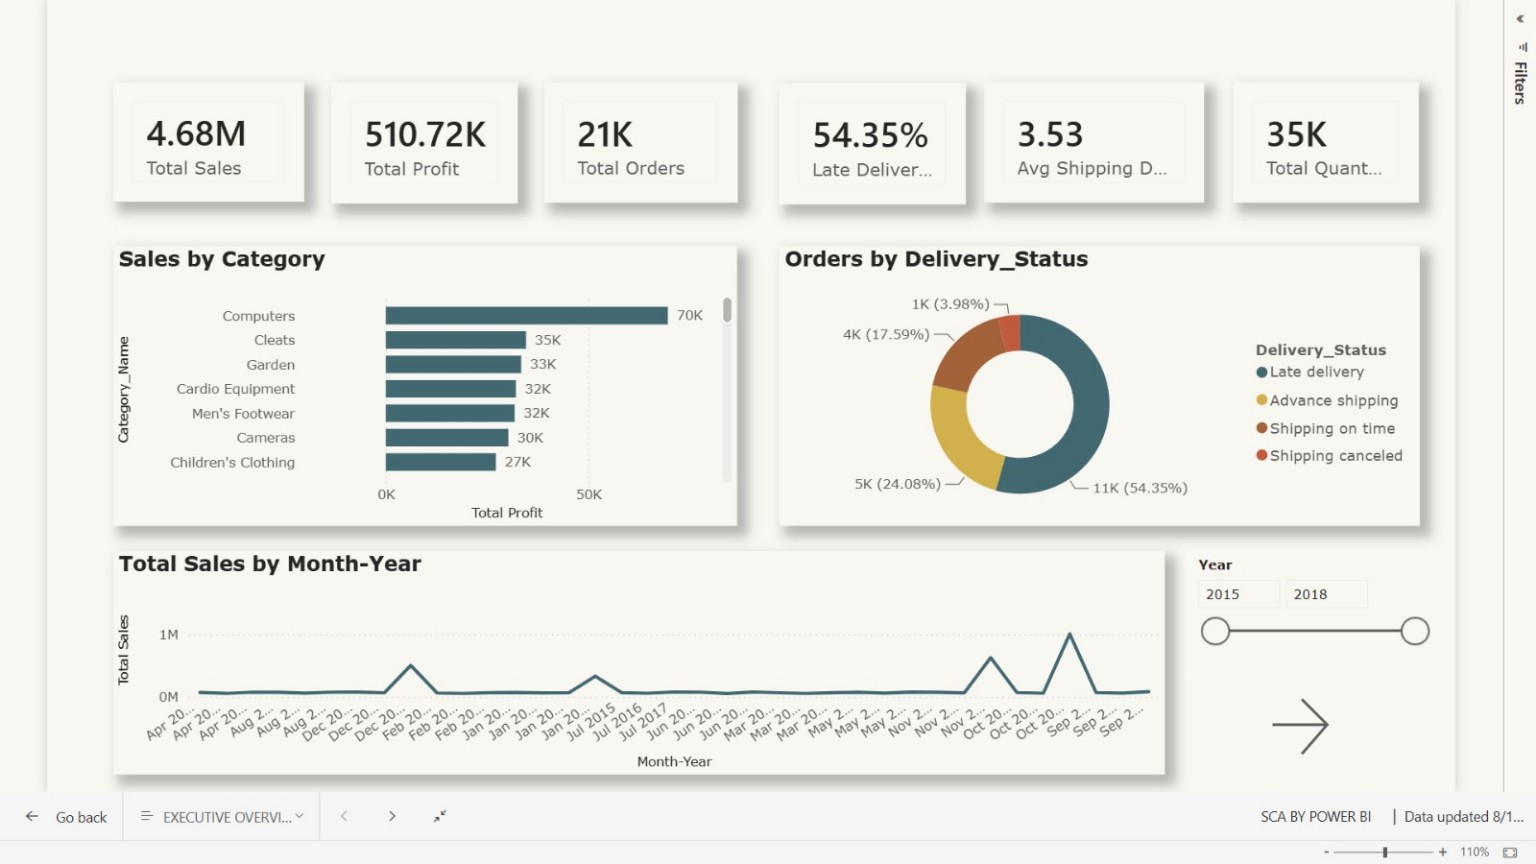

The dashboard page shown, as its layout file describes it:
{"tool":"powerbi","page":{"name":"EXECUTIVE OVERVIEW","canvas":[1280,720],"ordinal":0},"visuals":[{"type":"cardVisual","title":"Total Sales","fields":{"Data":["Fact_Order.Total Sales"]},"box":[59.9,74.6,173.6,108.8],"z":0},{"type":"cardVisual","fields":{"Data":["Fact_Order.Total Profit"]},"box":[258,74.6,170,110.1],"z":1},{"type":"cardVisual","fields":{"Data":["Fact_Order.Total Orders"]},"box":[451.5,74.1,175.6,109.8],"z":2},{"type":"cardVisual","fields":{"Data":["Fact_Order.Total Quantity"]},"box":[1078.6,74.1,168.8,109.8],"z":3},{"type":"cardVisual","fields":{"Data":["Fact_Order.Late Delivery %"]},"box":[665.2,75.8,170,110.1],"z":4},{"type":"cardVisual","fields":{"Data":["Fact_Order.Avg Shipping Days"]},"box":[852.1,74.1,200.3,109.8],"z":5},{"type":"clusteredBarChart","title":"Sales by Category","fields":{"Category":["Dim_Product.Category_Name"],"Y":["Fact_Order.Total Profit"]},"box":[59.9,223.8,567.4,254.3],"z":7},{"type":"donutChart","title":"Orders by Delivery_Status","fields":{"Category":["Fact_Order.Delivery_Status"],"Y":["Fact_Order.Total Orders"]},"box":[665.2,223.8,582.1,254.3],"z":8},{"type":"lineChart","fields":{"Category":["Dim_Date.Month-Year"],"Y":["Fact_Order.Total Sales"]},"box":[59.9,501.4,956.3,203],"z":9},{"type":"slicer","fields":{"Values":["Dim_Date.Year"]},"box":[1033.3,501.4,231.1,117.4],"z":10},{"type":"actionButton","box":[1106.7,628.5,85.6,64.8],"z":11}]}

Visuals, with their boxes on the page's 1280x720 design canvas (x1, y1, x2, y2). These are canvas units, not pixel positions in the 1536x864 screenshot, which may show the page scaled, cropped or inside an application window:
"Total Sales" cardVisual: 60,75,234,183
cardVisual - Fact_Order.Total Profit: 258,75,428,185
cardVisual - Fact_Order.Total Orders: 452,74,627,184
cardVisual - Fact_Order.Total Quantity: 1079,74,1247,184
cardVisual - Fact_Order.Late Delivery %: 665,76,835,186
cardVisual - Fact_Order.Avg Shipping Days: 852,74,1052,184
"Sales by Category" clusteredBarChart: 60,224,627,478
"Orders by Delivery_Status" donutChart: 665,224,1247,478
lineChart - Dim_Date.Month-Year x Fact_Order.Total Sales: 60,501,1016,704
slicer - Dim_Date.Year: 1033,501,1264,619
actionButton: 1107,628,1192,693
